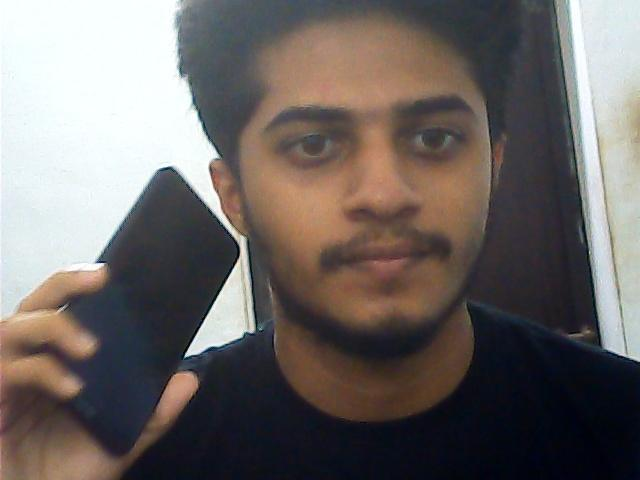PhoneUse: (73, 161, 243, 464)
SafeDriving: (391, 106, 476, 167), (270, 114, 358, 170)
